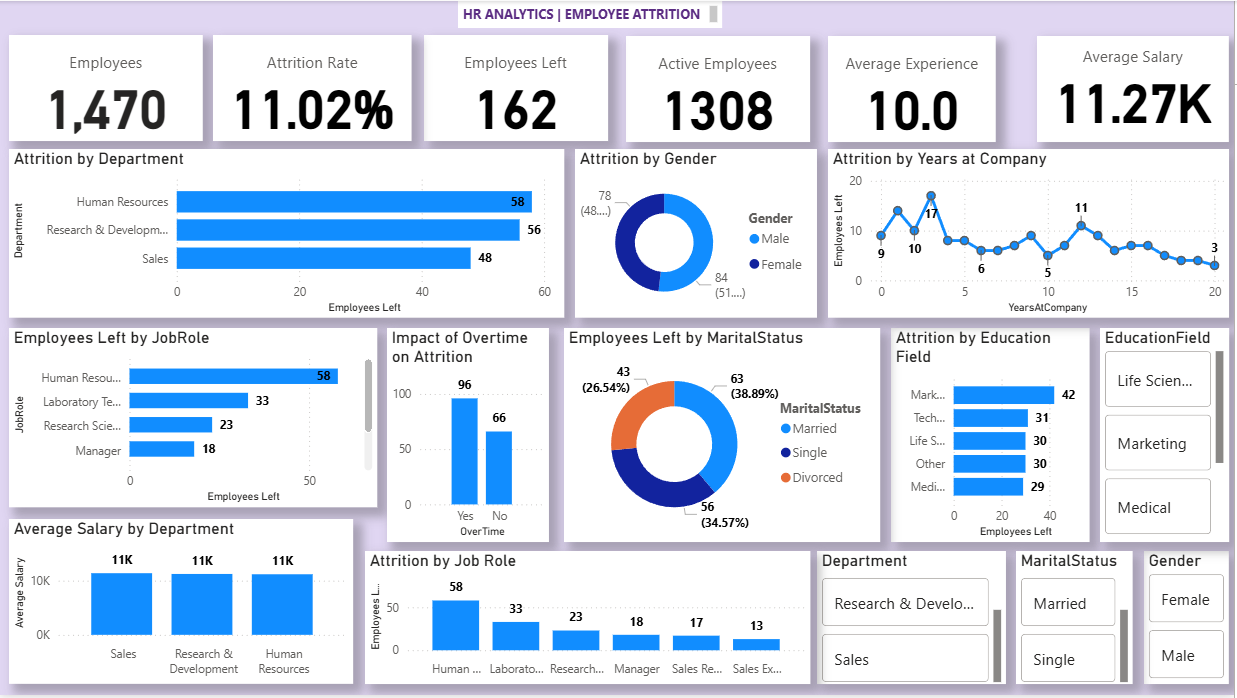

This screenshot's page, from the dashboard's own definition file:
{"tool":"powerbi","page":{"name":"Page 1","canvas":[1280,720],"ordinal":0},"visuals":[{"type":"cardVisual","fields":{"Data":["CountNonNull(Sheet.EmployeeID)"]},"box":[9.3,35.3,201.2,110],"z":0},{"type":"cardVisual","fields":{"Data":["Sheet.Active Employees"]},"box":[649.3,36.3,190.9,110],"z":1000},{"type":"cardVisual","fields":{"Data":["Sheet.Employees Left"]},"box":[439.8,35.3,190.9,110],"z":2000},{"type":"cardVisual","fields":{"Data":["Sheet.Attrition Rate"]},"box":[220.9,35.3,206.4,110],"z":3000},{"type":"cardVisual","fields":{"Data":["Sheet.Average Salary"]},"box":[1075.7,36.3,199.2,110],"z":4000},{"type":"cardVisual","fields":{"Data":["Sheet.Average Experience"]},"box":[858.9,36.3,174.3,110],"z":5000},{"type":"clusteredBarChart","title":"Attrition by Department","fields":{"Category":["Sheet.Department"],"Y":["Sheet.Employees Left"]},"box":[9.3,153.5,575.7,175.3],"z":6000},{"type":"donutChart","title":"Attrition by Gender","fields":{"Category":["Sheet.Gender"],"Y":["Sheet.Employees Left"]},"box":[596.4,153.5,251,175.3],"z":7000},{"type":"clusteredBarChart","fields":{"Category":["Sheet.JobRole"],"Y":["Sheet.Employees Left"]},"box":[9.3,339.2,381.7,185.7],"z":8000},{"type":"clusteredColumnChart","title":"Impact of Overtime on Attrition","fields":{"Category":["Sheet.OverTime"],"Y":["Sheet.Employees Left"]},"box":[401.4,339.2,168,222],"z":9000},{"type":"clusteredBarChart","title":"Attrition by Education Field","fields":{"Category":["Sheet.EducationField"],"Y":["Sheet.Employees Left"]},"box":[924.2,339.2,206.4,222],"z":10000},{"type":"clusteredColumnChart","fields":{"Category":["Sheet.Department"],"Y":["Sheet.Average Salary"]},"box":[9.3,537.3,356.8,171.2],"z":11000},{"type":"lineChart","title":"Attrition by Years at Company","fields":{"Category":["Sheet.YearsAtCompany"],"Y":["Sheet.Employees Left"]},"box":[858.9,153.5,415.9,175.3],"z":12000},{"type":"donutChart","fields":{"Category":["Sheet.MaritalStatus"],"Y":["Sheet.Employees Left"]},"box":[585,339.2,327.8,222],"z":13000},{"type":"advancedSlicerVisual","fields":{"Values":["Sheet.Department"]},"box":[847.5,570.5,196,138],"z":14000},{"type":"advancedSlicerVisual","fields":{"Values":["Sheet.Gender"]},"box":[1186.6,570.5,88.2,138],"z":15000},{"type":"columnChart","title":"Attrition by Job Role","fields":{"Category":["Sheet.JobRole"],"Y":["Sheet.Employees Left"]},"box":[378.6,570.5,461.6,138],"z":16000},{"type":"advancedSlicerVisual","fields":{"Values":["Sheet.EducationField"]},"box":[1141,339.2,133.8,222],"z":17000},{"type":"advancedSlicerVisual","fields":{"Values":["Sheet.MaritalStatus"]},"box":[1053.9,570.5,121.4,138],"z":18000},{"type":"textbox","box":[482.4,0,357.7,26.1],"z":19000}]}

Visuals, with their boxes in screenshot pixels (x1, y1, x2, y2), scaled from the page's 1280x720 canvas onto the 1237x698 screenshot:
cardVisual - CountNonNull(Sheet.EmployeeID): crop(9, 34, 203, 141)
cardVisual - Sheet.Active Employees: crop(627, 35, 812, 142)
cardVisual - Sheet.Employees Left: crop(425, 34, 610, 141)
cardVisual - Sheet.Attrition Rate: crop(213, 34, 413, 141)
cardVisual - Sheet.Average Salary: crop(1040, 35, 1232, 142)
cardVisual - Sheet.Average Experience: crop(830, 35, 998, 142)
"Attrition by Department" clusteredBarChart: crop(9, 149, 565, 319)
"Attrition by Gender" donutChart: crop(576, 149, 819, 319)
clusteredBarChart - Sheet.JobRole x Sheet.Employees Left: crop(9, 329, 378, 509)
"Impact of Overtime on Attrition" clusteredColumnChart: crop(388, 329, 550, 544)
"Attrition by Education Field" clusteredBarChart: crop(893, 329, 1093, 544)
clusteredColumnChart - Sheet.Department x Sheet.Average Salary: crop(9, 521, 354, 687)
"Attrition by Years at Company" lineChart: crop(830, 149, 1232, 319)
donutChart - Sheet.MaritalStatus x Sheet.Employees Left: crop(565, 329, 882, 544)
advancedSlicerVisual - Sheet.Department: crop(819, 553, 1008, 687)
advancedSlicerVisual - Sheet.Gender: crop(1147, 553, 1232, 687)
"Attrition by Job Role" columnChart: crop(366, 553, 812, 687)
advancedSlicerVisual - Sheet.EducationField: crop(1103, 329, 1232, 544)
advancedSlicerVisual - Sheet.MaritalStatus: crop(1018, 553, 1136, 687)
textbox: crop(466, 0, 812, 25)
